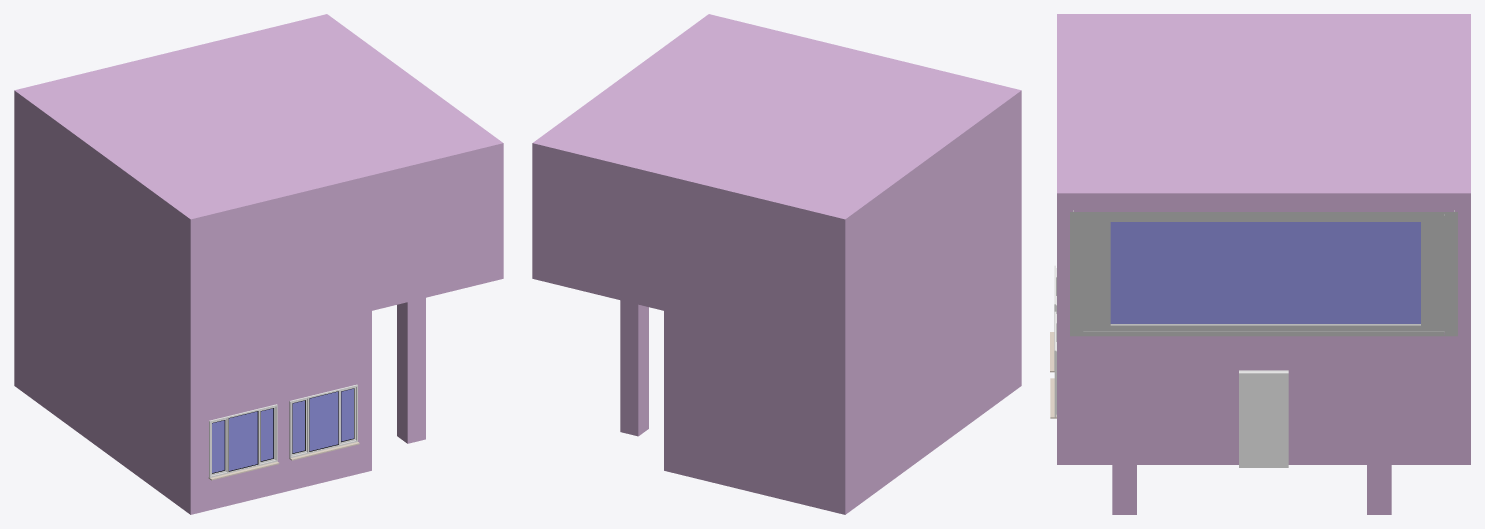
File: Mental Health Office.fbx
The picture shows the model from 3 angles, left to right: view 1: azimuth 30°, elevation 25°; view 2: azimuth 150°, elevation 25°; view 3: azimuth 270°, elevation 25°; orthographic projection. The views are drawn at different scales.
Visible parts, largest first — view 1: Cube, Window.001, Window; view 2: Cube; view 3: Cube, Window.R.001, WindowFrame.001, CTRL_Hole.001, Window.
Boxes of the visible parts, x1,y1,x2,y2 form: Cube: (14,14,503,514); Window.001: (208,404,279,480); Window: (289,384,359,460); Cube: (532,14,1021,514); Cube: (1057,14,1470,514); Window.R.001: (1083,215,1444,331); WindowFrame.001: (1070,210,1457,336); CTRL_Hole.001: (1239,371,1288,467); Window: (1050,311,1056,418).
Bounding box in the file's own units: 209 × 188 × 203.
